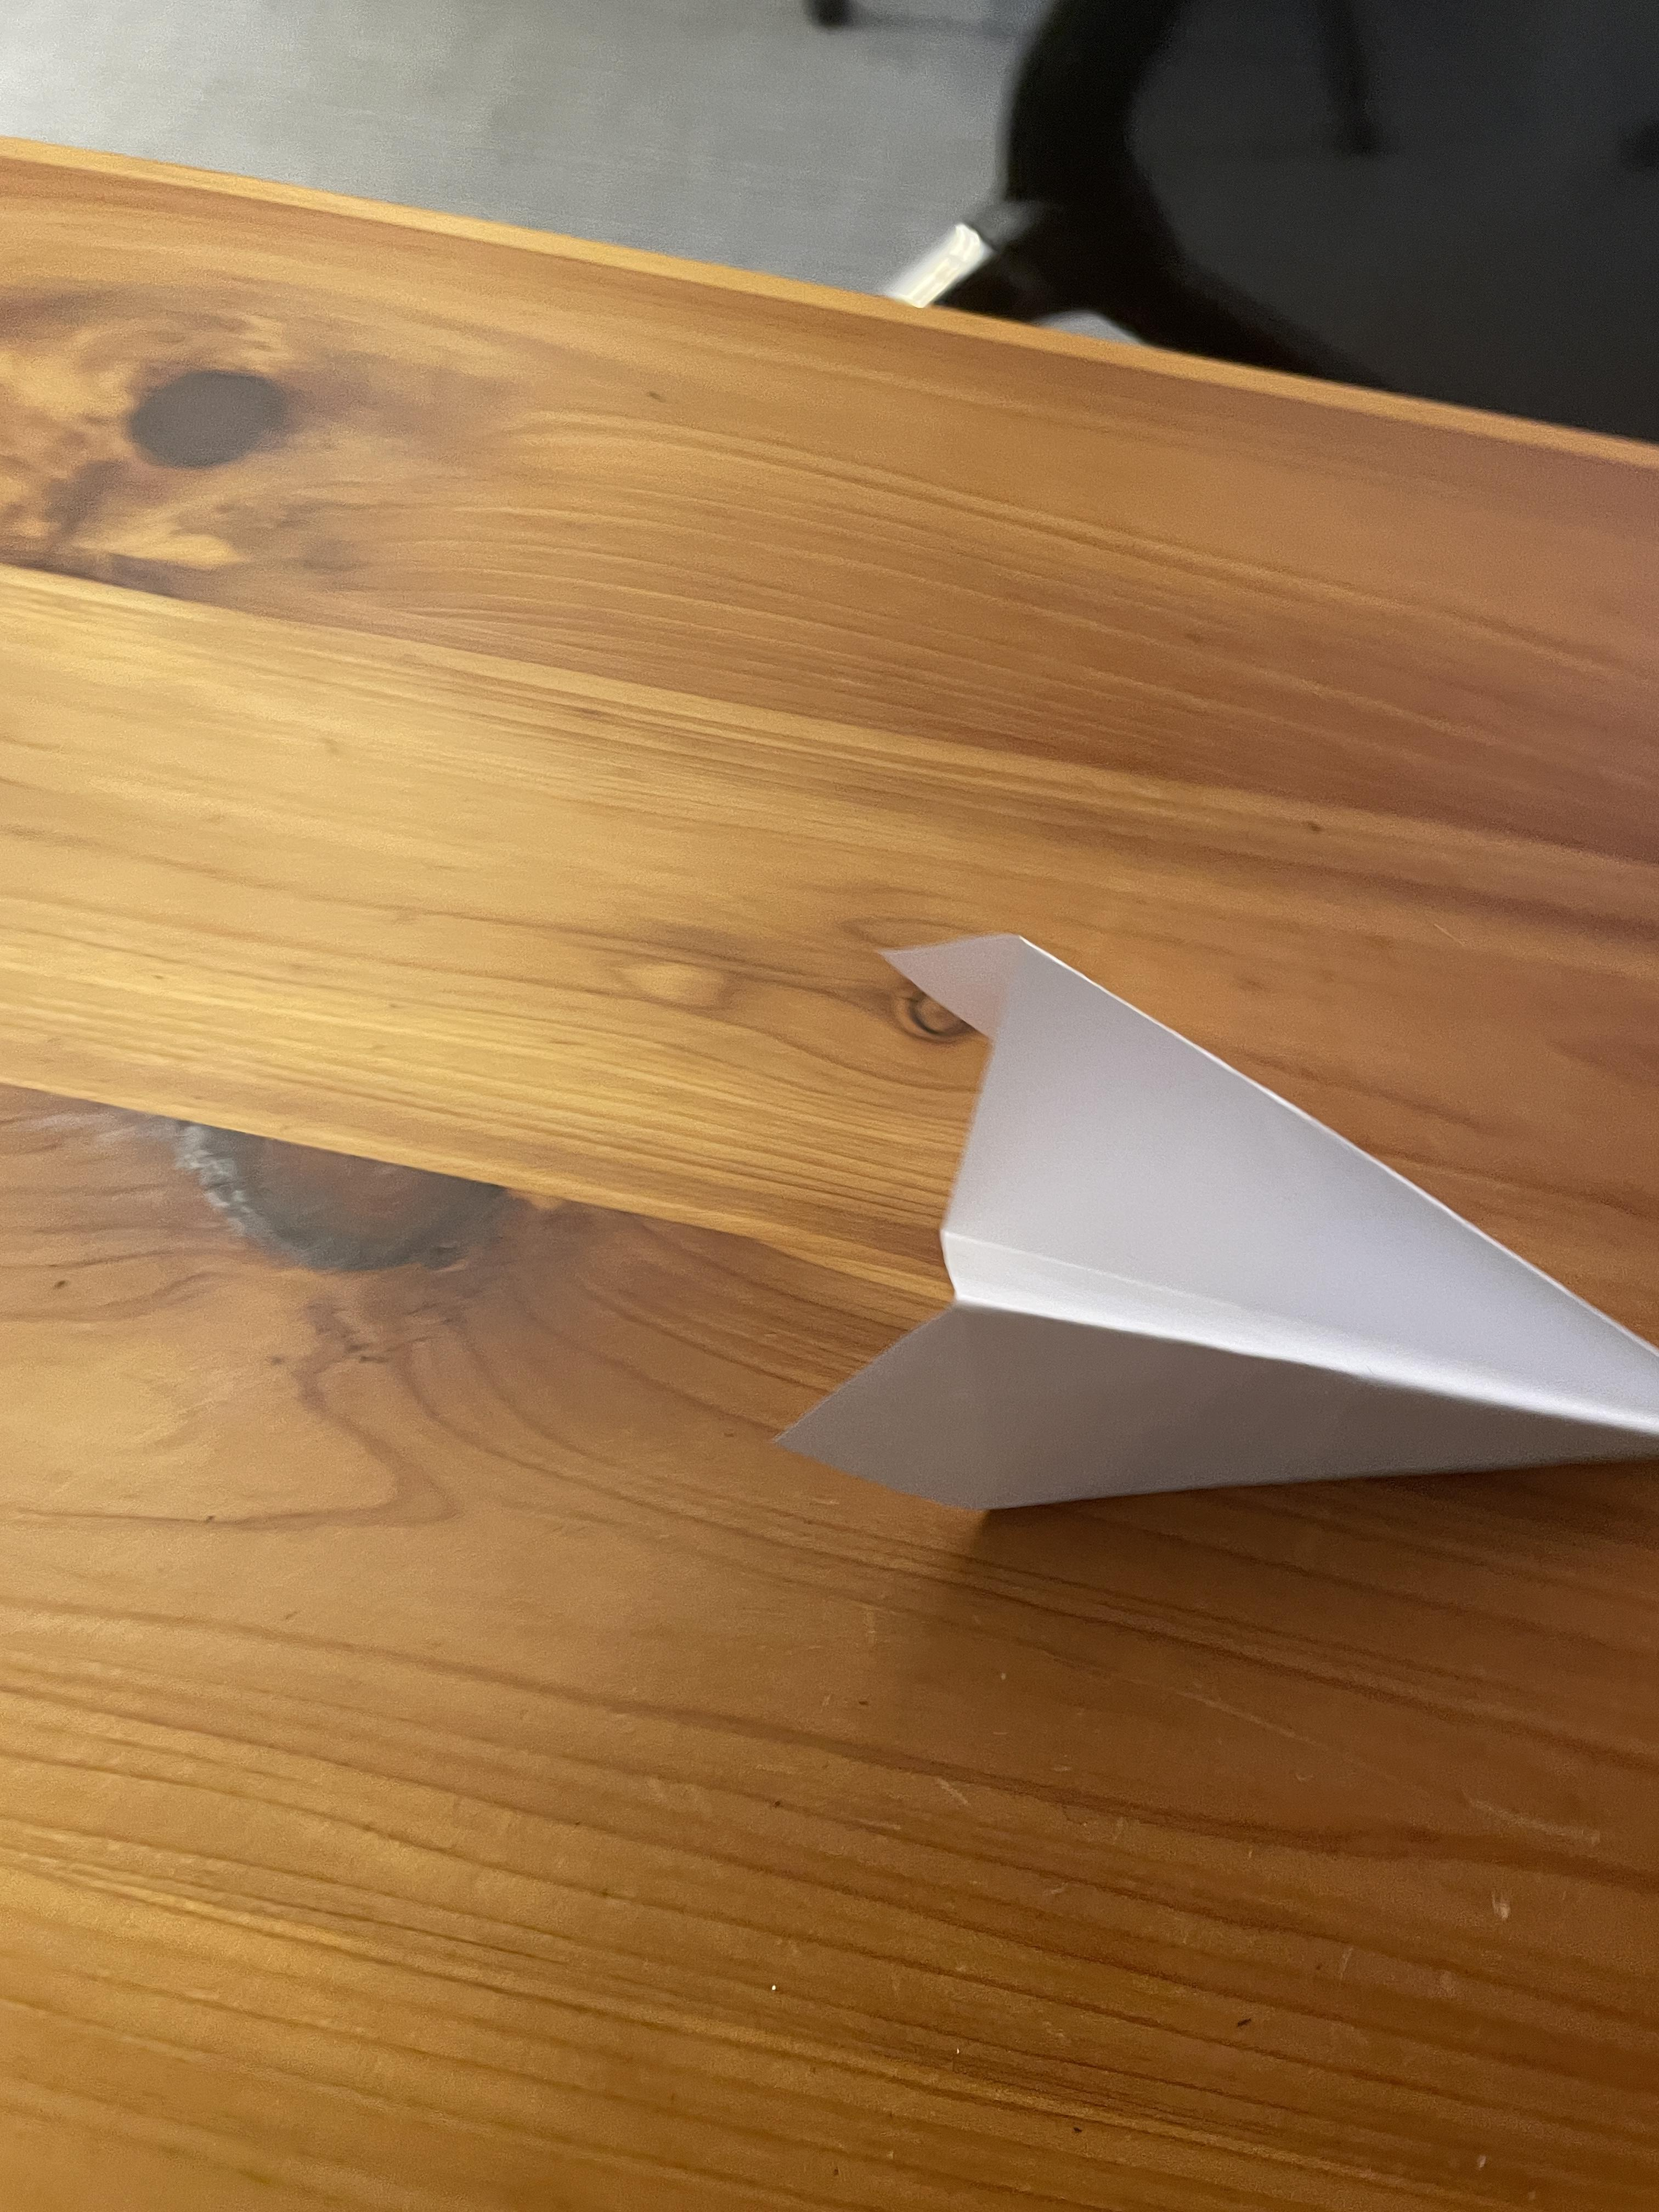shape_3: (718, 803, 1659, 1789)
